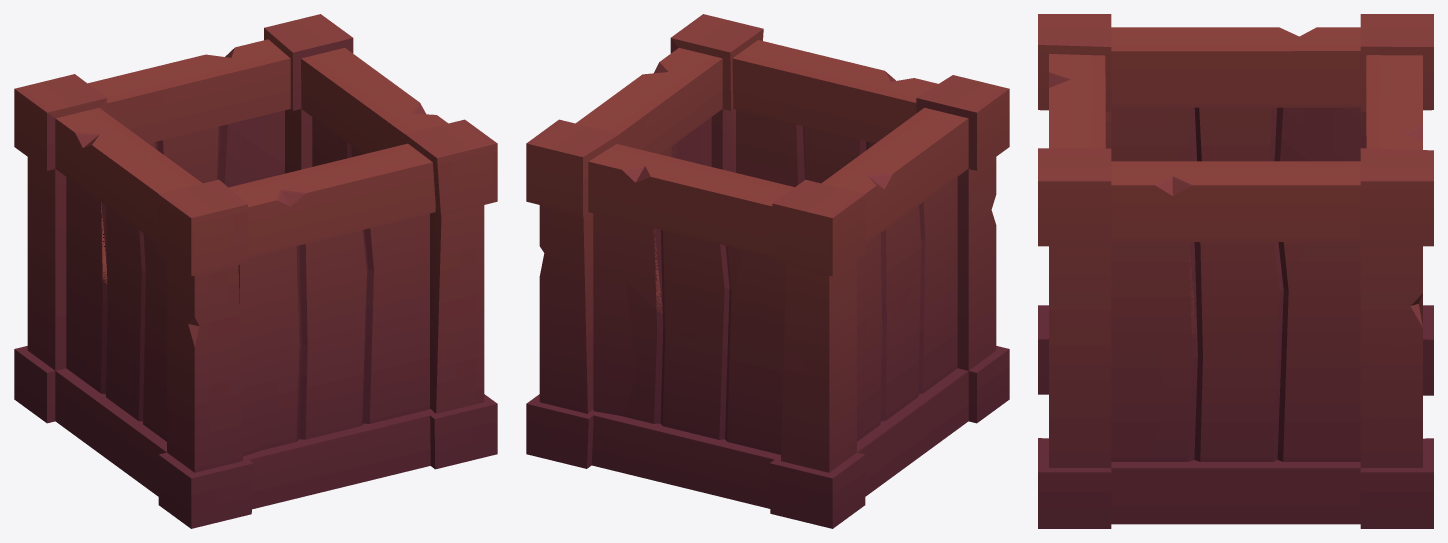
Rendered from fbx-crate-broken.fbx.
3 renders of one model, left to right at view 1: azimuth 30°, elevation 25°; view 2: azimuth 150°, elevation 25°; view 3: azimuth 270°, elevation 25°, orthographic. The views are drawn at different scales.
Parts seen in each view (by area): view 1: broken-big-piece-1, broken-wee-piece-1, broken-big-piece-2, broken-wee-piece-2, broken-big-piece-4, broken-wee-piece-4, broken-big-piece-3, broken-wee-piece-3; view 2: broken-big-piece-2, broken-big-piece-1, broken-wee-piece-3, broken-wee-piece-4, broken-big-piece-3, broken-big-piece-4, broken-wee-piece-2, broken-wee-piece-1; view 3: broken-big-piece-3, broken-big-piece-4, broken-big-piece-2, broken-big-piece-1, broken-wee-piece-2, broken-wee-piece-4, broken-wee-piece-3, broken-wee-piece-1.
Boxes of the visible parts, x1=… form: broken-big-piece-1: x1=66, y1=162, x2=253, y2=528; broken-wee-piece-1: x1=262, y1=143, x2=435, y2=486; broken-big-piece-2: x1=14, y1=74, x2=172, y2=463; broken-wee-piece-2: x1=228, y1=159, x2=392, y2=509; broken-big-piece-4: x1=329, y1=72, x2=497, y2=469; broken-wee-piece-4: x1=135, y1=39, x2=290, y2=187; broken-big-piece-3: x1=264, y1=14, x2=378, y2=173; broken-wee-piece-3: x1=88, y1=72, x2=251, y2=181; broken-big-piece-2: x1=769, y1=135, x2=943, y2=528; broken-big-piece-1: x1=861, y1=75, x2=1009, y2=465; broken-wee-piece-3: x1=607, y1=174, x2=794, y2=508; broken-wee-piece-4: x1=588, y1=144, x2=743, y2=489; broken-big-piece-3: x1=526, y1=104, x2=648, y2=468; broken-big-piece-4: x1=602, y1=14, x2=763, y2=172; broken-wee-piece-2: x1=779, y1=53, x2=937, y2=186; broken-wee-piece-1: x1=732, y1=40, x2=813, y2=185; broken-big-piece-3: x1=1136, y1=148, x2=1433, y2=528; broken-big-piece-4: x1=1038, y1=148, x2=1304, y2=528; broken-big-piece-2: x1=1168, y1=14, x2=1433, y2=395; broken-big-piece-1: x1=1038, y1=14, x2=1194, y2=394; broken-wee-piece-2: x1=1049, y1=54, x2=1105, y2=126; broken-wee-piece-4: x1=1366, y1=85, x2=1422, y2=149; broken-wee-piece-3: x1=1366, y1=55, x2=1422, y2=88; broken-wee-piece-1: x1=1049, y1=123, x2=1105, y2=148.
Bounding box in the file's own units: 218 × 211 × 218.
